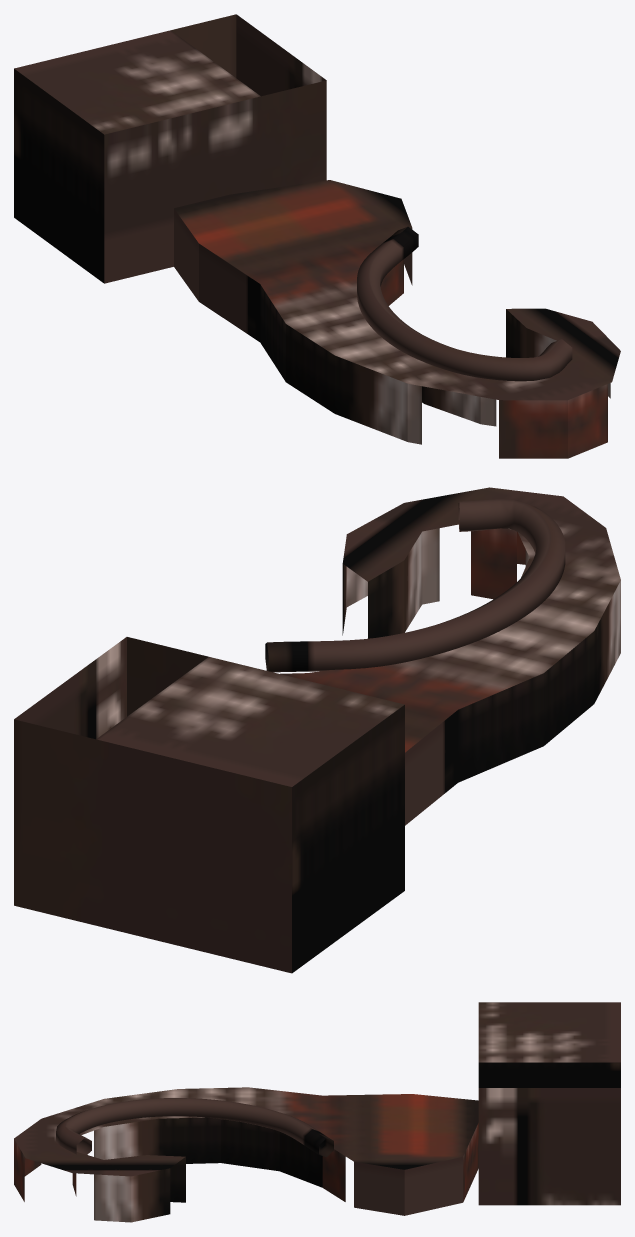
The model's file is section-0.obj.
The picture shows the model from 3 angles, top to bottom: view 1: azimuth 30°, elevation 25°; view 2: azimuth 150°, elevation 25°; view 3: azimuth 270°, elevation 25°; orthographic projection. The views are drawn at different scales.
Bounding box in the file's own units: 0.8085 × 0.431 × 2.02.
